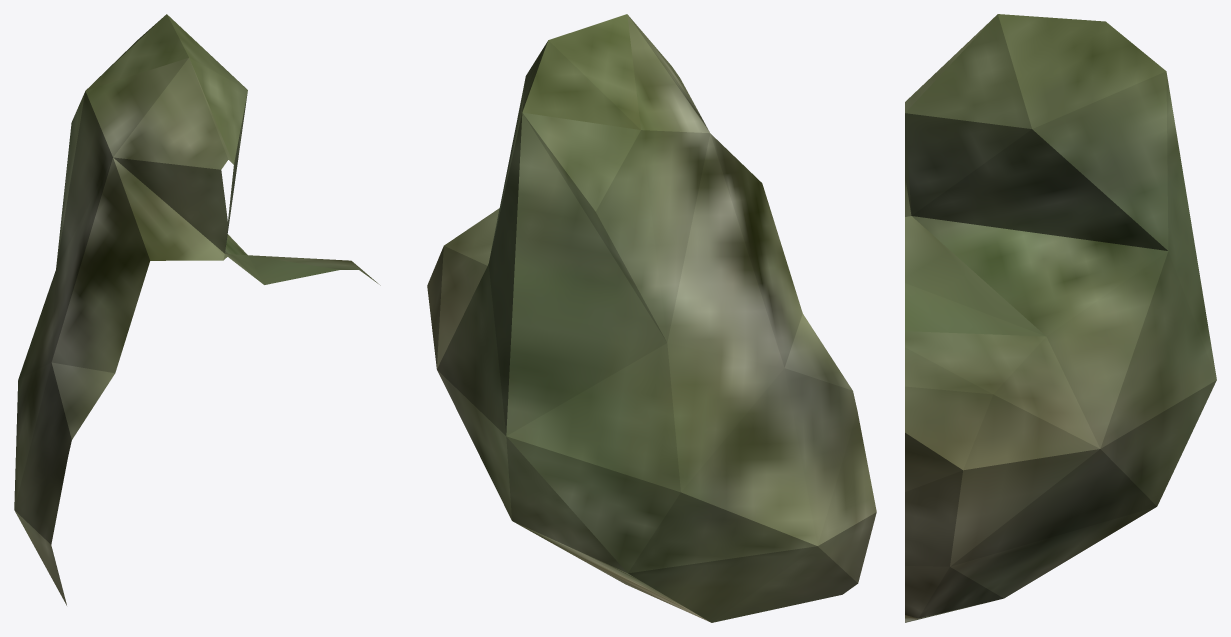
3 views of the same model, side by side, from view 1: azimuth 30°, elevation 25°; view 2: azimuth 150°, elevation 25°; view 3: azimuth 270°, elevation 25° (orthographic). The views are drawn at different scales.
Bounding box in the file's own units: 0.363 × 0.4981 × 0.2258.
1 material, 1 textured.
